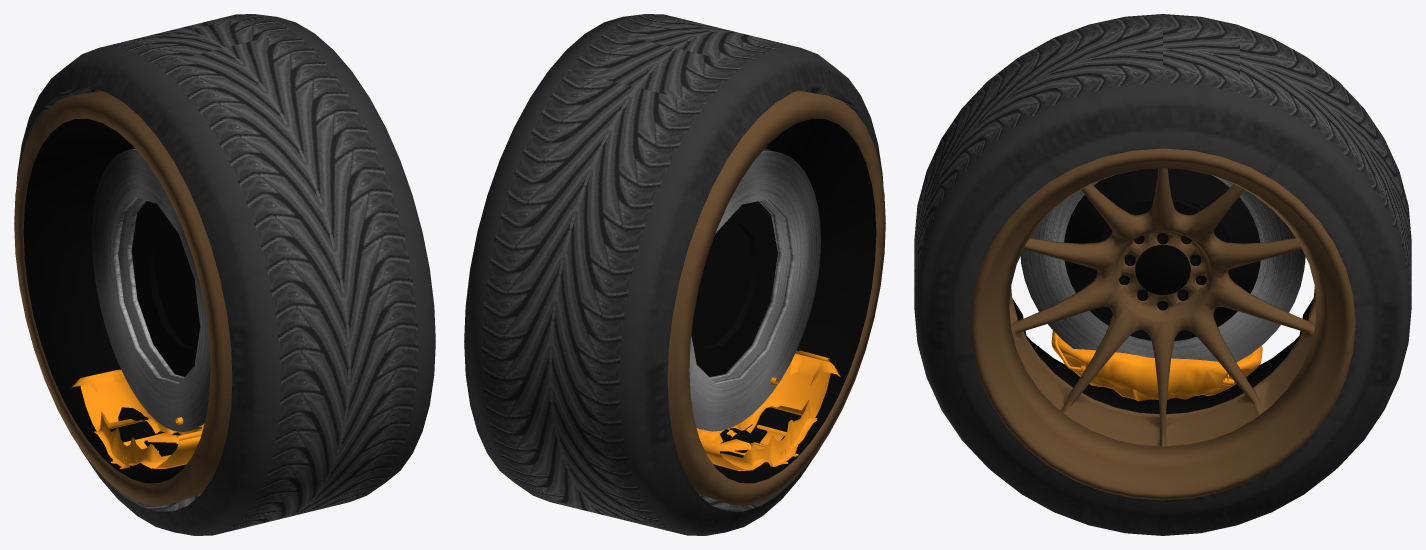
Rendered from Tyre.fbx.
3 renders of one model, left to right at view 1: azimuth 30°, elevation 25°; view 2: azimuth 150°, elevation 25°; view 3: azimuth 270°, elevation 25°, orthographic.
Visible parts, largest first — view 1: Tyre; view 2: Tyre; view 3: Tyre.
Boxes of the visible parts, left/top/right/bottom form: Tyre: left=14, top=14, right=435, bottom=535; Tyre: left=464, top=14, right=885, bottom=535; Tyre: left=914, top=14, right=1411, bottom=535.
Bounding box in the file's own units: 78.84 × 149 × 149.
